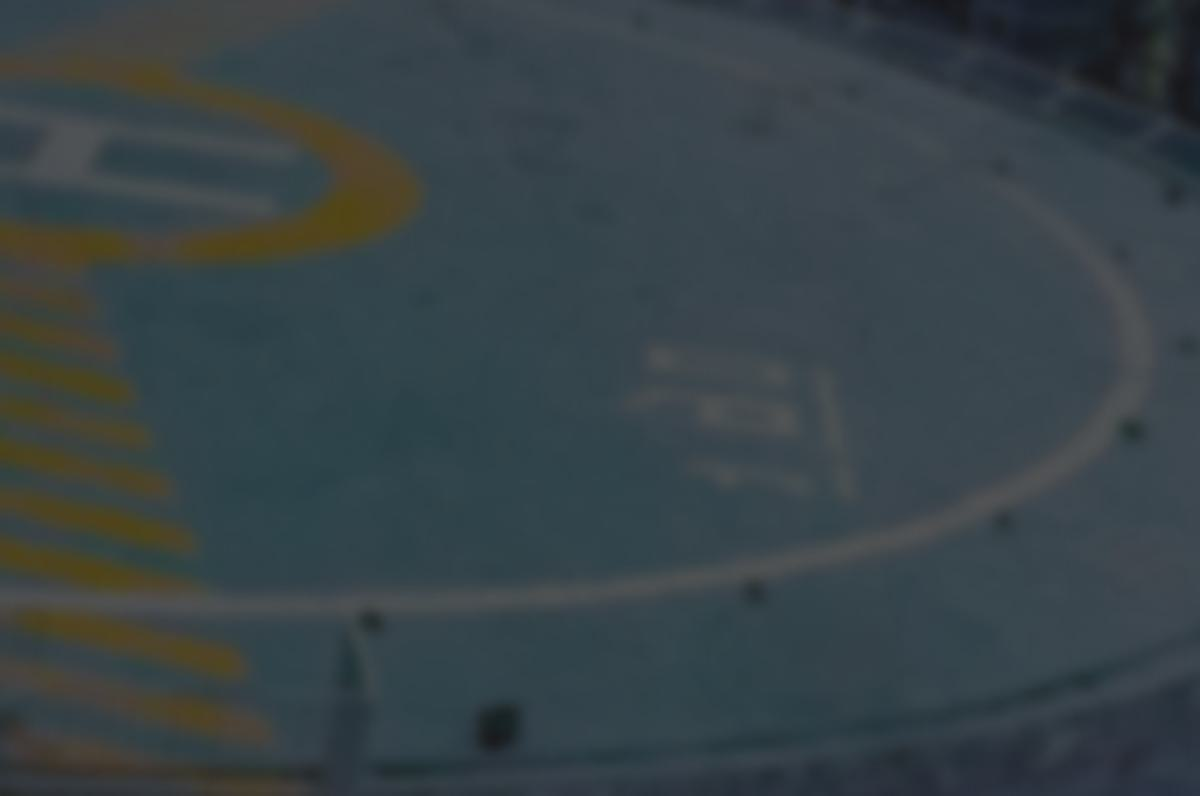Apron: (1, 2, 455, 260)
